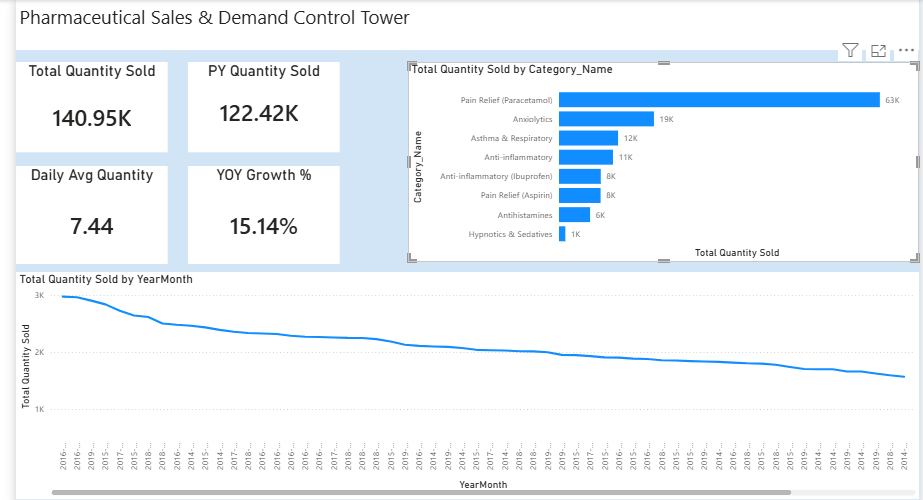

What the dashboard file says about the page in this screenshot:
{"tool":"powerbi","page":{"name":"Executive  Dashboard  Layout ","canvas":[1280,720],"ordinal":0},"visuals":[{"type":"cardVisual","title":"Total Quantity Sold","fields":{"Data":["_Measures.Total Quantity Sold"]},"box":[0,87.9,215.4,127.6],"z":0},{"type":"cardVisual","title":"Daily Avg Quantity","fields":{"Data":["_Measures.Daily Avg Quantity"]},"box":[0,235.3,215.4,138.9],"z":1000},{"type":"cardVisual","title":"YOY Growth %","fields":{"Data":["_Measures.YOY Growth %"]},"box":[243.8,235.3,215.4,138.9],"z":2000},{"type":"cardVisual","title":"PY Quantity Sold","fields":{"Data":["_Measures.PY Quantity Sold"]},"box":[243.8,87.9,215.4,127.6],"z":3000},{"type":"lineChart","fields":{"Category":["Dim_Date.YearMonth"],"Y":["_Measures.Total Quantity Sold"]},"box":[0,385.5,1279.8,321.7],"z":4000},{"type":"clusteredBarChart","fields":{"Category":["Dim_ATC.Category_Name"],"Y":["_Measures.Total Quantity Sold"]},"box":[555.6,87.9,724.3,283.5],"z":5000},{"type":"textbox","box":[0,0,1279.8,70.9],"z":6000}]}

Visuals, with their boxes on the page's 1280x720 design canvas (x1, y1, x2, y2). These are canvas units, not pixel positions in the 923x500 screenshot, which may show the page scaled, cropped or inside an application window:
"Total Quantity Sold" cardVisual: x1=0 y1=88 x2=215 y2=216
"Daily Avg Quantity" cardVisual: x1=0 y1=235 x2=215 y2=374
"YOY Growth %" cardVisual: x1=244 y1=235 x2=459 y2=374
"PY Quantity Sold" cardVisual: x1=244 y1=88 x2=459 y2=216
lineChart - Dim_Date.YearMonth x _Measures.Total Quantity Sold: x1=0 y1=386 x2=1280 y2=707
clusteredBarChart - Dim_ATC.Category_Name x _Measures.Total Quantity Sold: x1=556 y1=88 x2=1280 y2=371
textbox: x1=0 y1=0 x2=1280 y2=71
